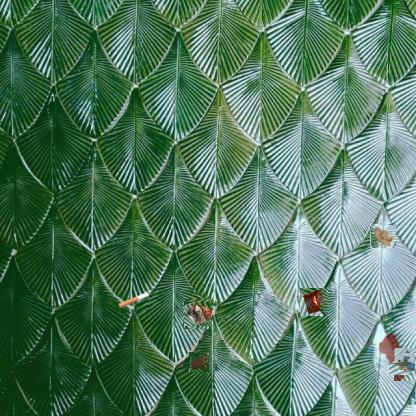dirty: (300, 288, 328, 316), (183, 301, 211, 328), (391, 350, 416, 378), (370, 224, 396, 248), (118, 292, 148, 312)
liquid: (377, 333, 404, 363), (189, 352, 209, 372)
